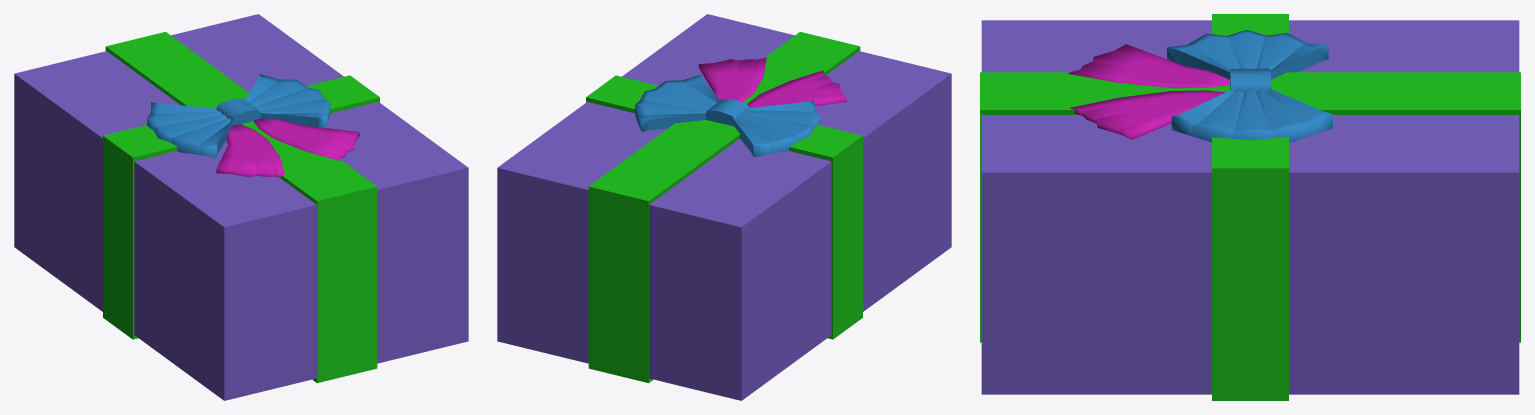
Rendered from Present2.fbx.
The picture shows the model from 3 angles, left to right: view 1: azimuth 30°, elevation 25°; view 2: azimuth 150°, elevation 25°; view 3: azimuth 270°, elevation 25°; orthographic projection. The views are drawn at different scales.
Parts seen in each view (by area): view 1: Present2_lp; view 2: Present2_lp; view 3: Present2_lp.
Boxes of the visible parts, x1,y1,x2,y2 form: Present2_lp: (14,14,468,400); Present2_lp: (497,14,951,400); Present2_lp: (980,14,1520,400).
Bounding box in the file's own units: 0.2497 × 0.1871 × 0.3702.
